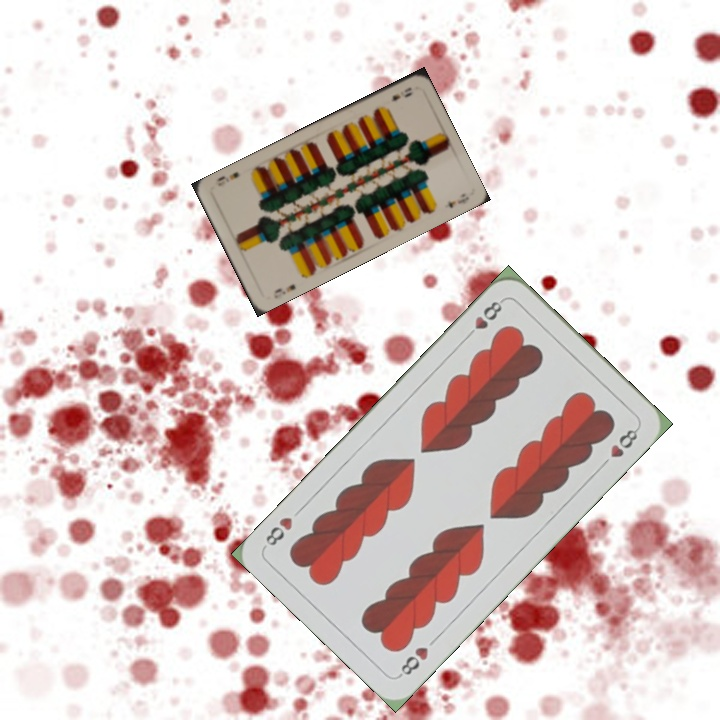E9: (269, 280, 298, 301), (386, 83, 415, 104)
H8: (461, 295, 507, 342), (395, 643, 431, 680)
